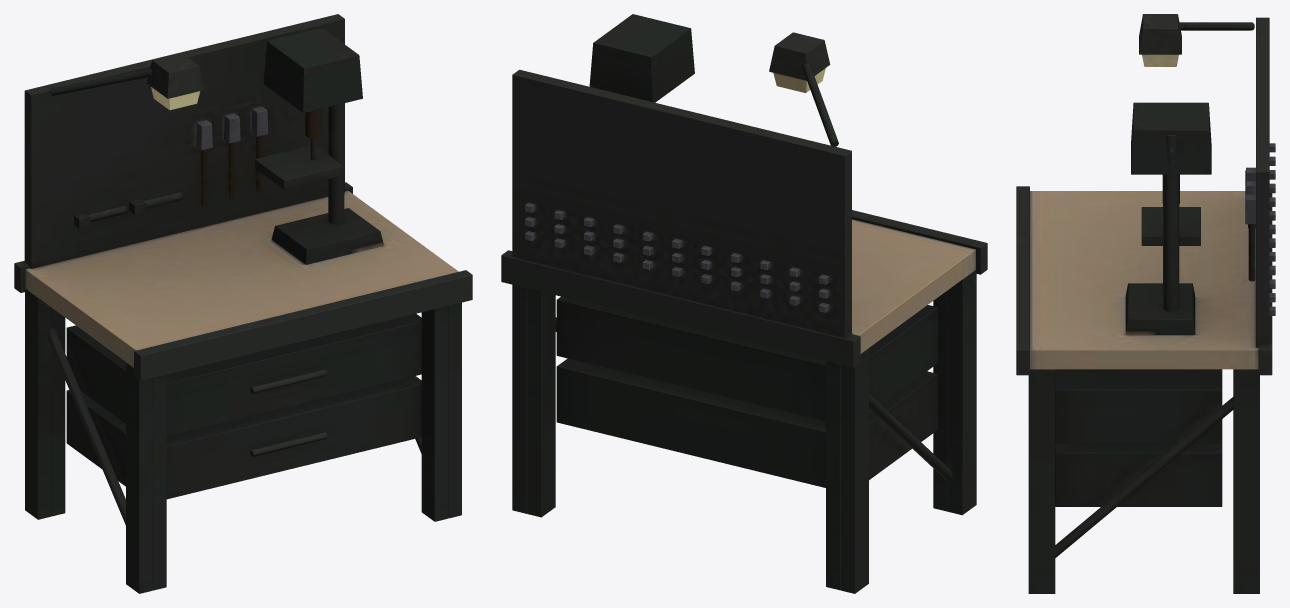
File: DD_workbench2_L3.glb
3 renders of one model, left to right at view 1: azimuth 30°, elevation 25°; view 2: azimuth 150°, elevation 25°; view 3: azimuth 270°, elevation 25°, orthographic. The views are drawn at different scales.
Visible parts, largest first — view 1: DD_workbench2_L3; view 2: DD_workbench2_L3; view 3: DD_workbench2_L3.
Boxes of the visible parts, x1,y1,x2,y2 form: DD_workbench2_L3: [14, 14, 472, 593]; DD_workbench2_L3: [501, 14, 987, 593]; DD_workbench2_L3: [1016, 14, 1275, 593].
Bounding box in the file's own units: 1.44 × 1.9 × 0.9625.
Materials: 1 (1 with a texture image).
